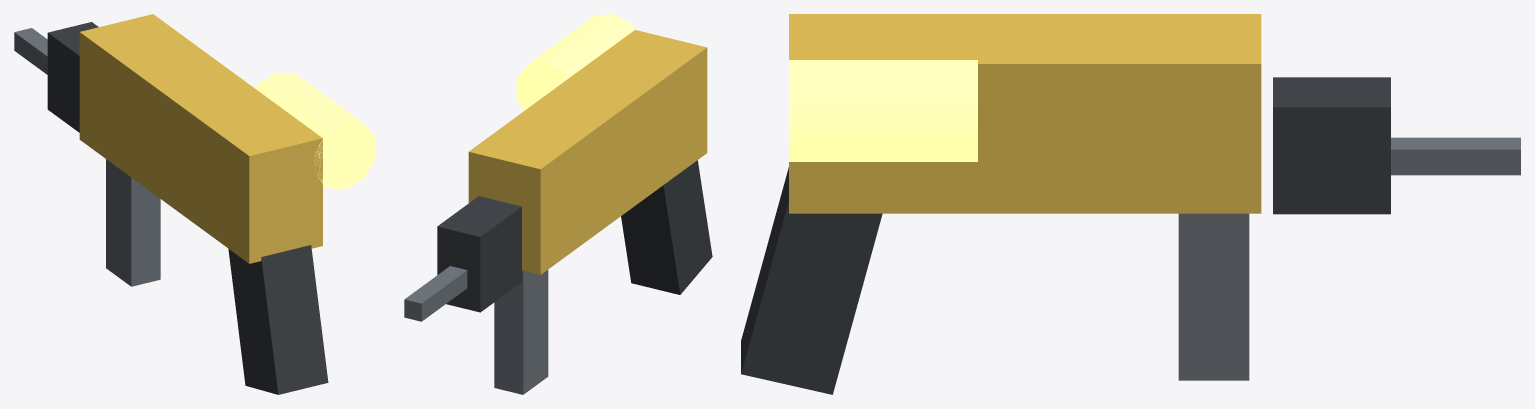
Rendered from leaky_nailgun.glb.
3 renders of one model, left to right at view 1: azimuth 30°, elevation 25°; view 2: azimuth 150°, elevation 25°; view 3: azimuth 270°, elevation 25°, orthographic. The views are drawn at different scales.
Parts seen in each view (by area): view 1: Merged; view 2: Merged; view 3: Merged.
Part boxes in pixels (bbox=[...]): Merged: bbox=[14, 14, 375, 394]; Merged: bbox=[404, 14, 712, 394]; Merged: bbox=[741, 14, 1520, 394].
Size of the model in its own units: 0.1676 by 0.3227 by 0.6441.
